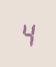four: (19, 19, 34, 47)
